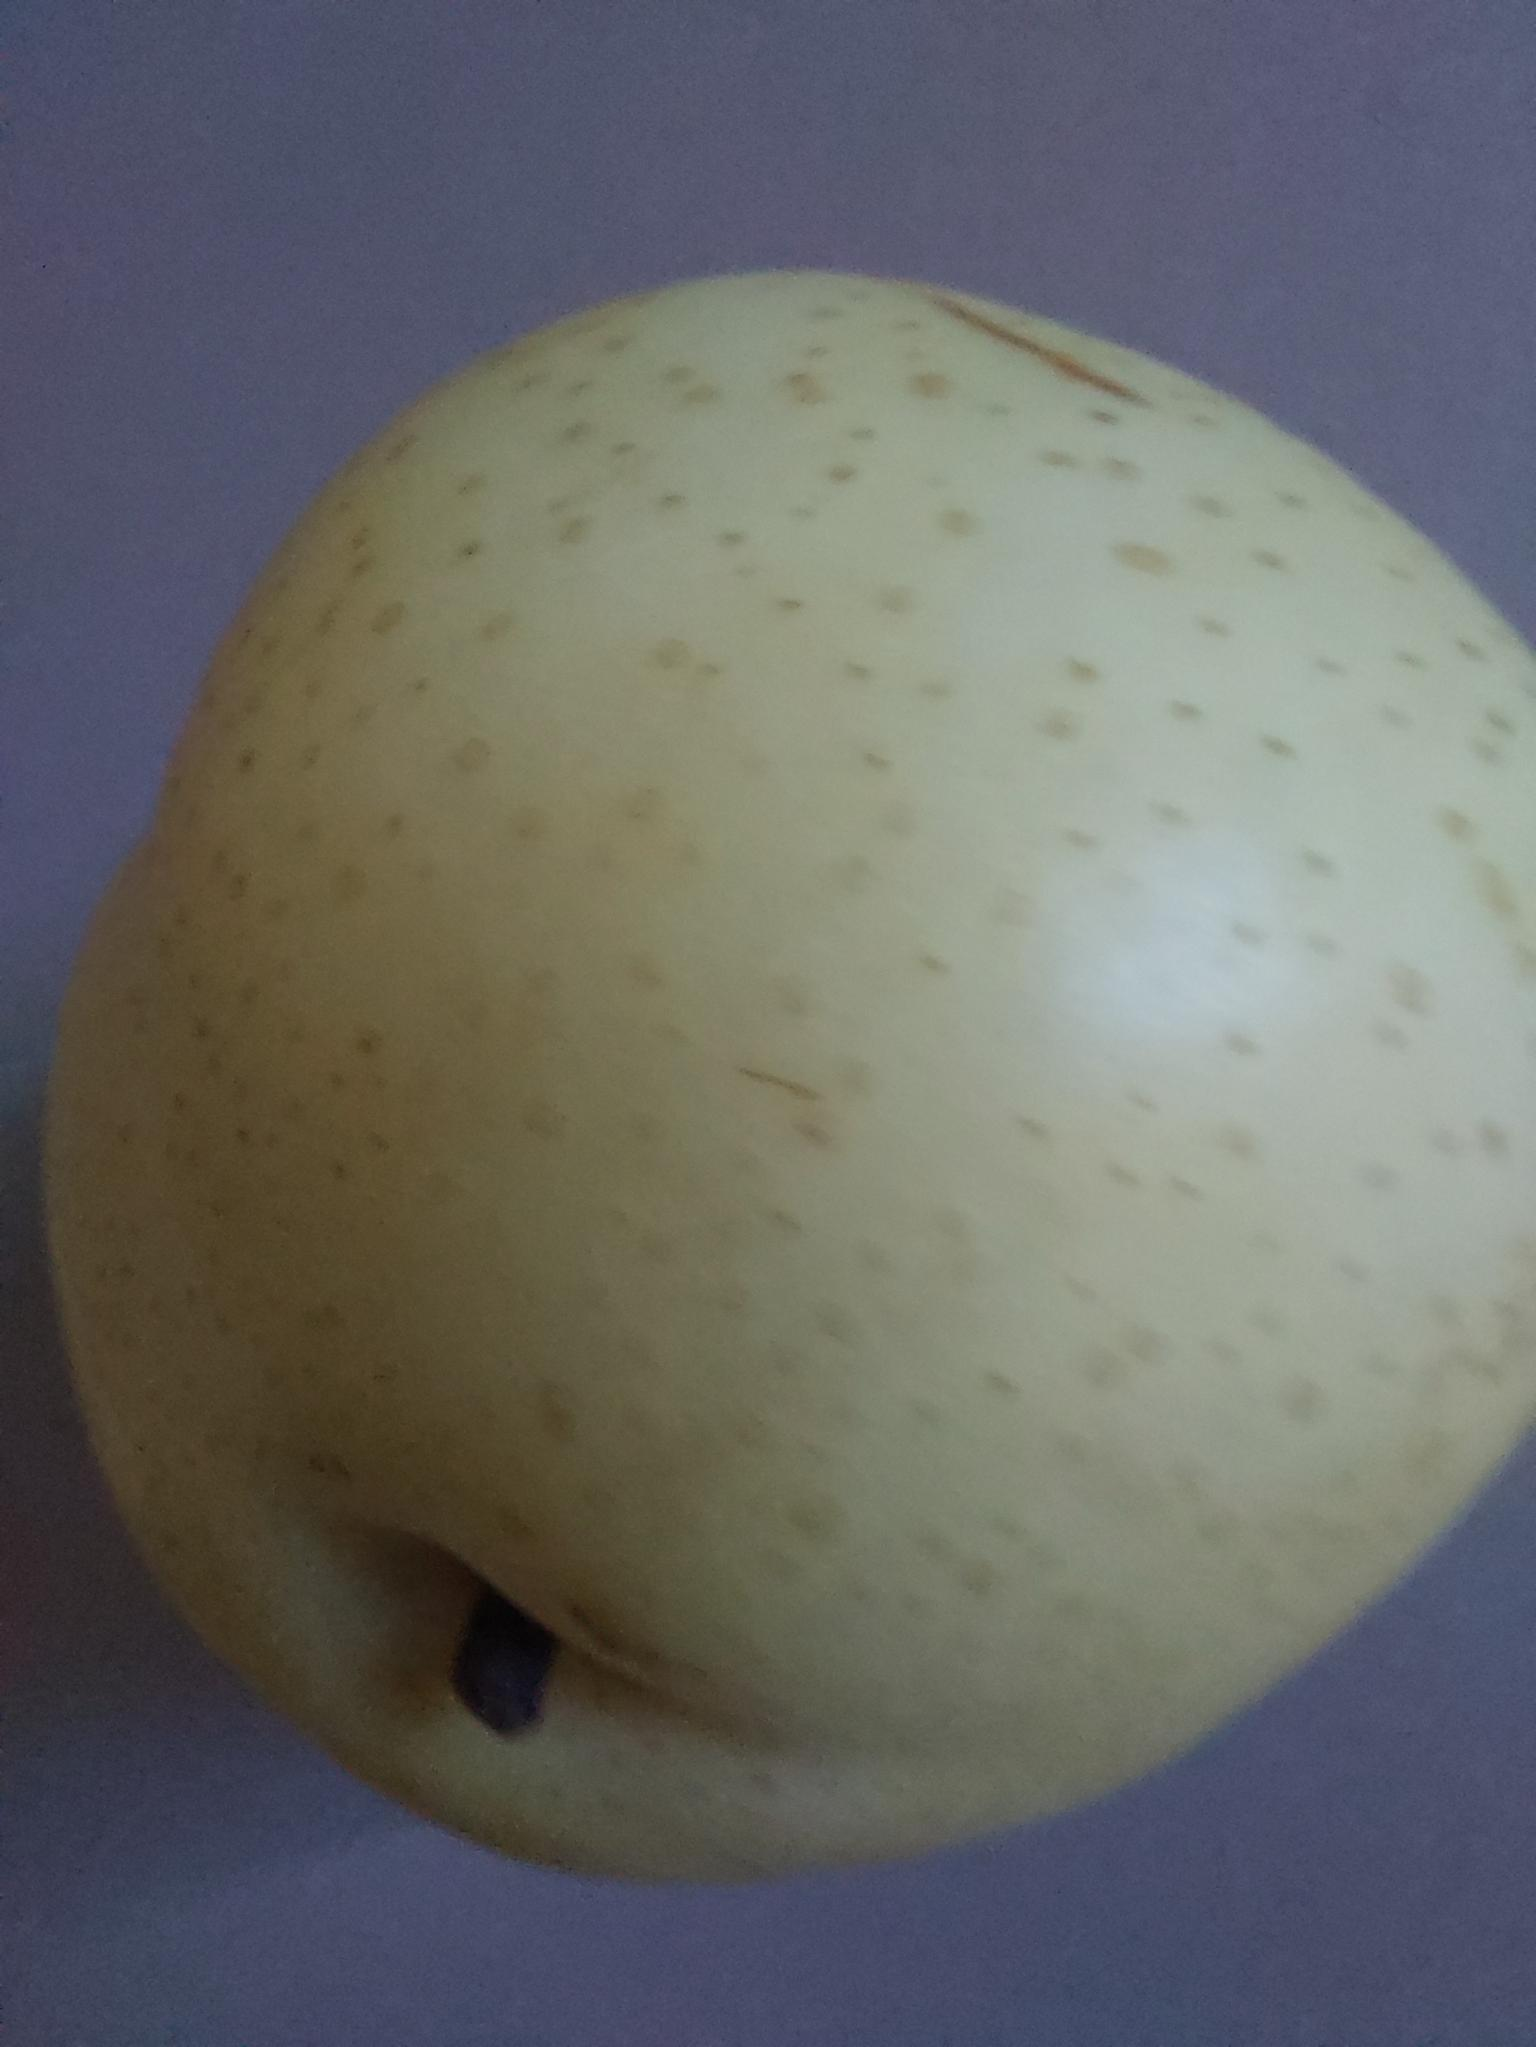Good Pear: (24, 239, 1536, 1900)
